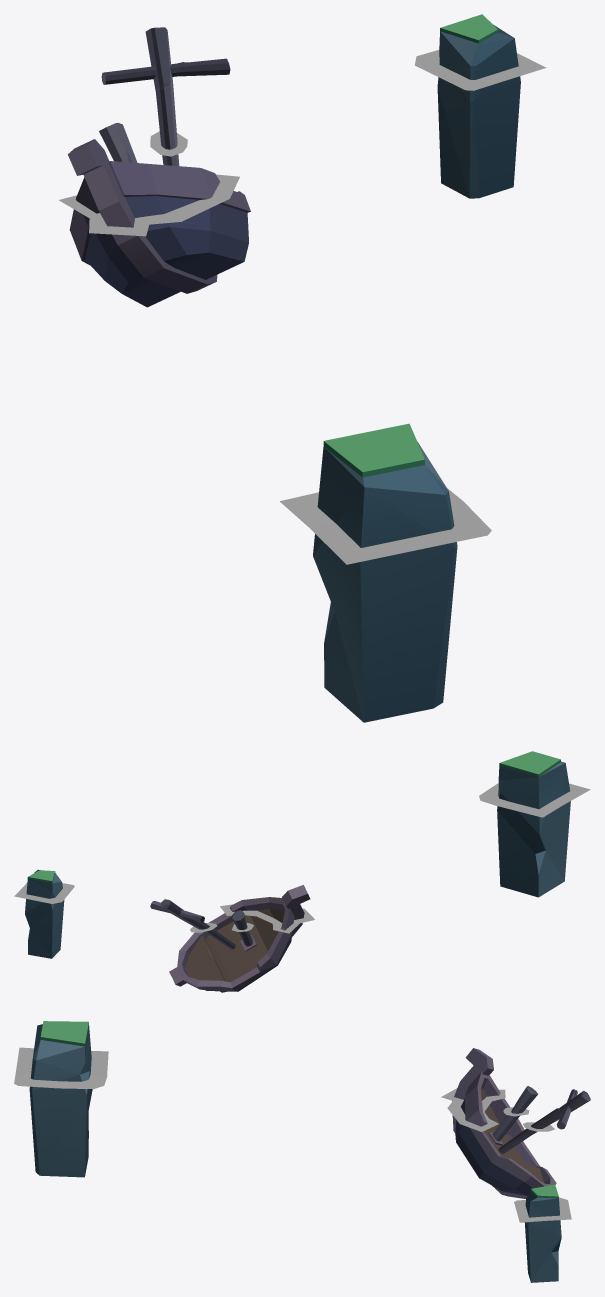
The model's file is Common_Ship.fbx.
The picture shows the model from 3 angles, top to bottom: view 1: azimuth 30°, elevation 25°; view 2: azimuth 150°, elevation 25°; view 3: azimuth 270°, elevation 25°; orthographic projection. The views are drawn at different scales.
Visible parts, largest first — view 1: Common_Ship, Common_Ship_Effect; view 2: Common_Ship, Common_Ship_Effect; view 3: Common_Ship, Common_Ship_Effect.
Boxes of the visible parts, left/top/right/bottom form: Common_Ship: left=67, top=14, right=520, bottom=722; Common_Ship_Effect: left=59, top=50, right=546, bottom=564; Common_Ship: left=25, top=751, right=570, bottom=992; Common_Ship_Effect: left=14, top=783, right=590, bottom=933; Common_Ship: left=29, top=1021, right=590, bottom=1282; Common_Ship_Effect: left=14, top=1047, right=571, bottom=1222.
Bounding box in the file's own units: 0.1749 × 0.0654 × 0.2435.
